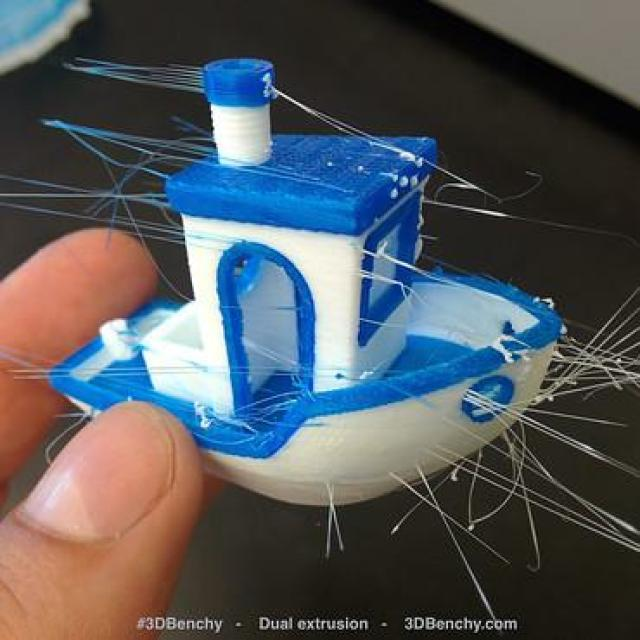stringing: (60, 49, 200, 246), (475, 410, 580, 547), (539, 292, 640, 409)
